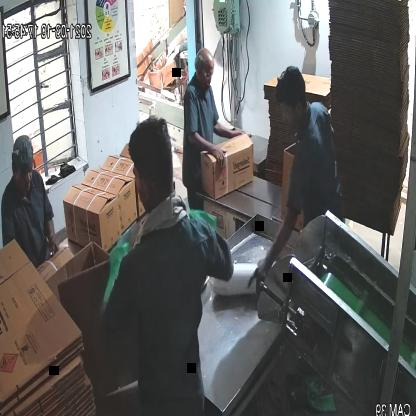no_glove: (251, 201, 301, 292), (185, 132, 231, 170), (209, 111, 252, 145), (45, 208, 59, 263)
